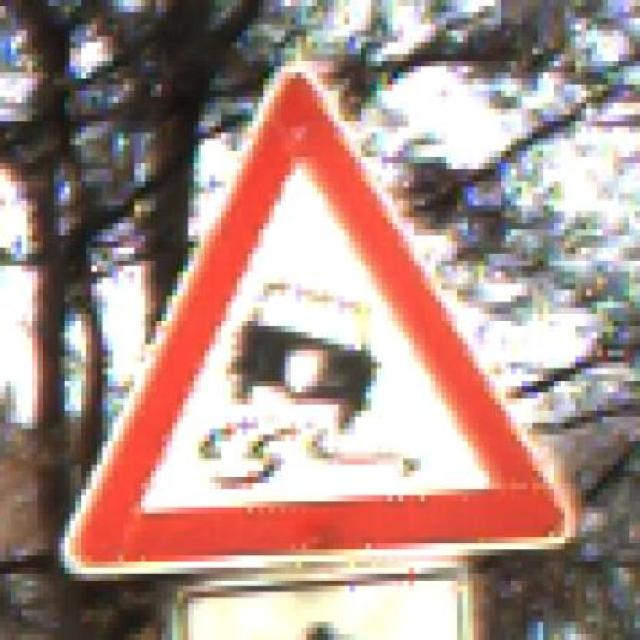Slippery Road Ahead: (49, 60, 592, 580)
